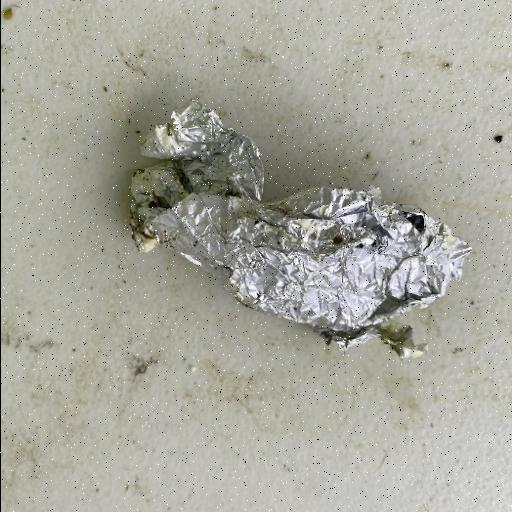Metal: (126, 98, 473, 360)
